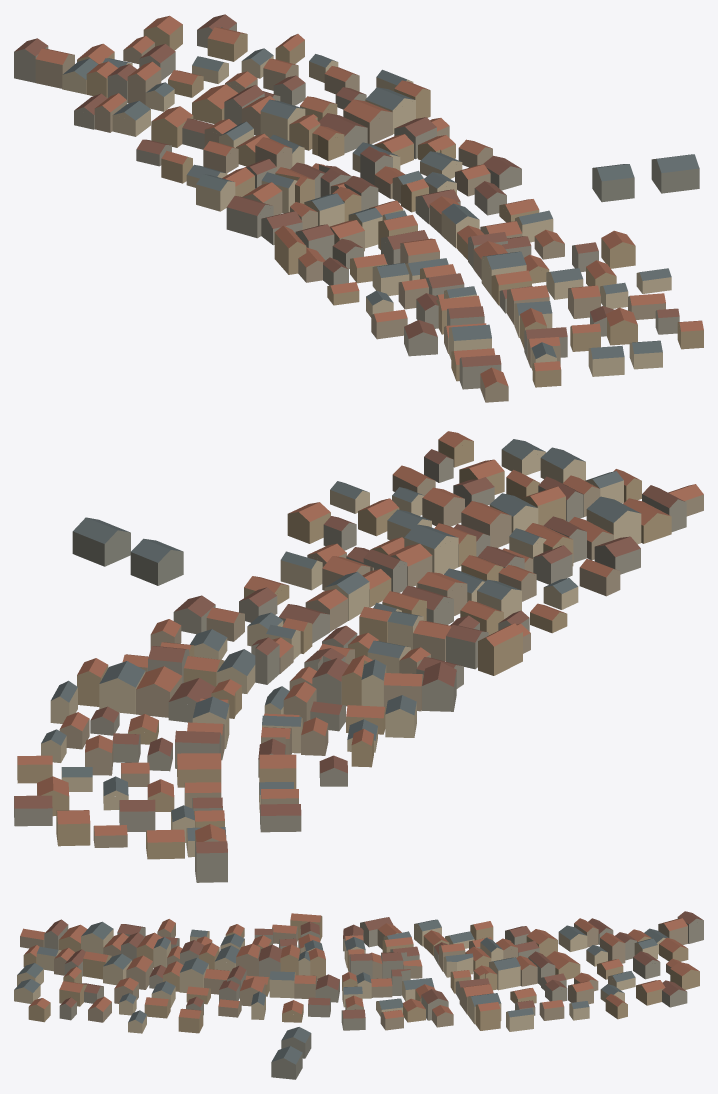
3 views of the same model, one above another, from view 1: azimuth 30°, elevation 25°; view 2: azimuth 150°, elevation 25°; view 3: azimuth 270°, elevation 25° (orthographic). The views are drawn at different scales.
Visible parts, largest first — view 1: C_5_2; view 2: C_5_2; view 3: C_5_2.
Boxes of the visible parts, x1,y1,x2,y2 form: C_5_2: (14, 14, 703, 402); C_5_2: (14, 431, 703, 882); C_5_2: (14, 911, 703, 1079).
Bounding box in the file's own units: 185 × 14.43 × 364.
